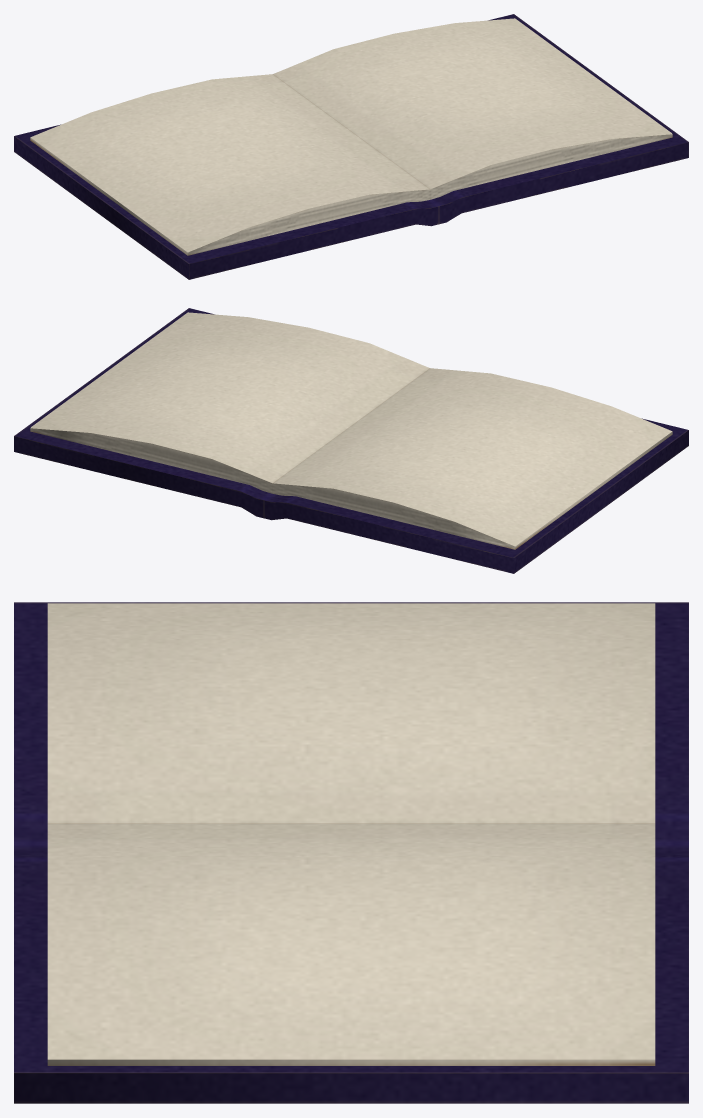
Rendered from book.glb.
3 renders of one model, top to bottom at view 1: azimuth 30°, elevation 25°; view 2: azimuth 150°, elevation 25°; view 3: azimuth 270°, elevation 25°, orthographic. The views are drawn at different scales.
Visible parts, largest first — view 1: Pages, Page, Cover; view 2: Pages, Page, Cover; view 3: Pages, Page, Cover.
Boxes of the visible parts, left/top/right/bottom form: Pages: left=30, top=71, right=672, bottom=255; Page: left=281, top=18, right=671, bottom=185; Cover: left=14, top=14, right=688, bottom=279; Pages: left=30, top=365, right=672, bottom=549; Page: left=31, top=312, right=421, bottom=479; Cover: left=14, top=308, right=688, bottom=573; Pages: left=47, top=603, right=655, bottom=1065; Page: left=47, top=828, right=655, bottom=1058; Cover: left=14, top=602, right=688, bottom=1103.
Bounding box in the file's own units: 3.3 × 0.2488 × 2.
Materials: 2 (2 with a texture image).
